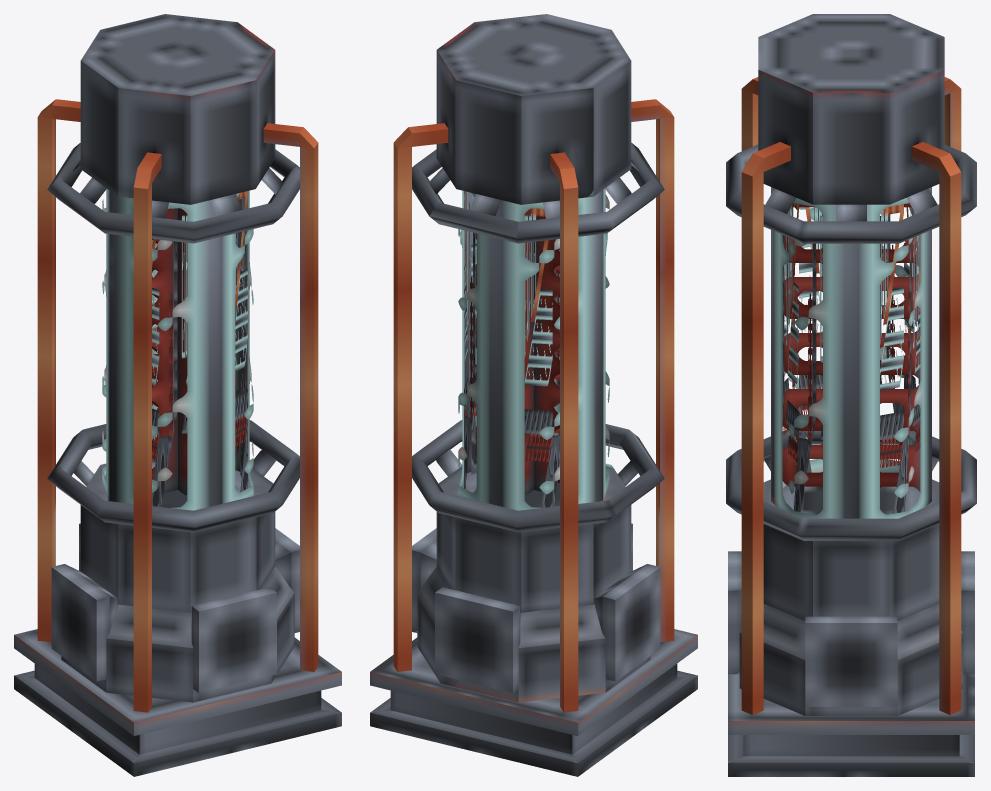
The model's file is machine_mixer.obj.
3 views of the same model, side by side, from view 1: azimuth 30°, elevation 25°; view 2: azimuth 150°, elevation 25°; view 3: azimuth 270°, elevation 25° (orthographic). The views are drawn at different scales.
Parts seen in each view (by area): view 1: Main, Fluid, Mixer; view 2: Main, Fluid, Mixer; view 3: Main, Fluid, Mixer.
Boxes of the visible parts, x1,y1,x2,y2 form: Main: (14,14,341,776); Fluid: (152,191,247,506); Mixer: (152,208,236,495); Main: (370,14,697,776); Fluid: (464,191,559,507); Mixer: (475,209,559,495); Main: (726,14,976,776); Fluid: (782,203,920,513); Mixer: (782,203,920,491).
Bounding box in the file's own units: 1.02 × 3 × 1.02.
